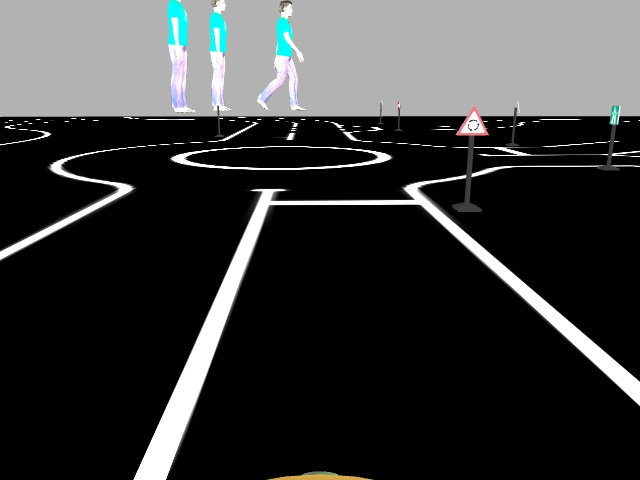Roundabout: (453, 103, 491, 138)
